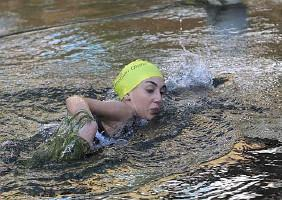human: (66, 57, 166, 153)
